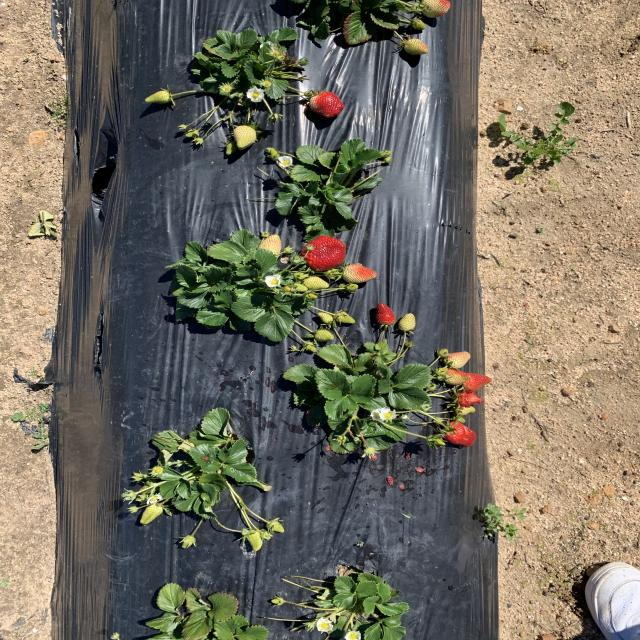unripe: (300, 234, 348, 272), (308, 91, 346, 118), (446, 422, 476, 448), (463, 372, 493, 392), (375, 301, 397, 326)
